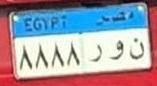8: (49, 42, 65, 69), (18, 44, 33, 72), (65, 41, 80, 68), (35, 43, 49, 70)
noon: (128, 37, 146, 65)
raa: (88, 42, 104, 64)
waw: (108, 37, 124, 63)
